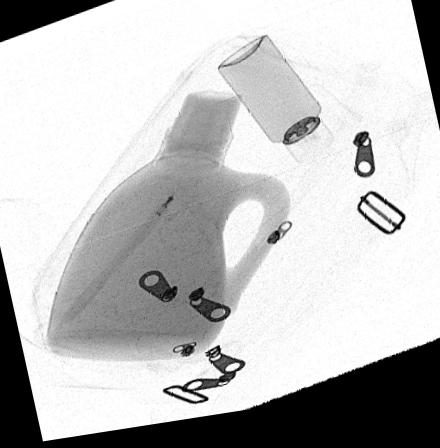Sprayer: (217, 43, 333, 172)
